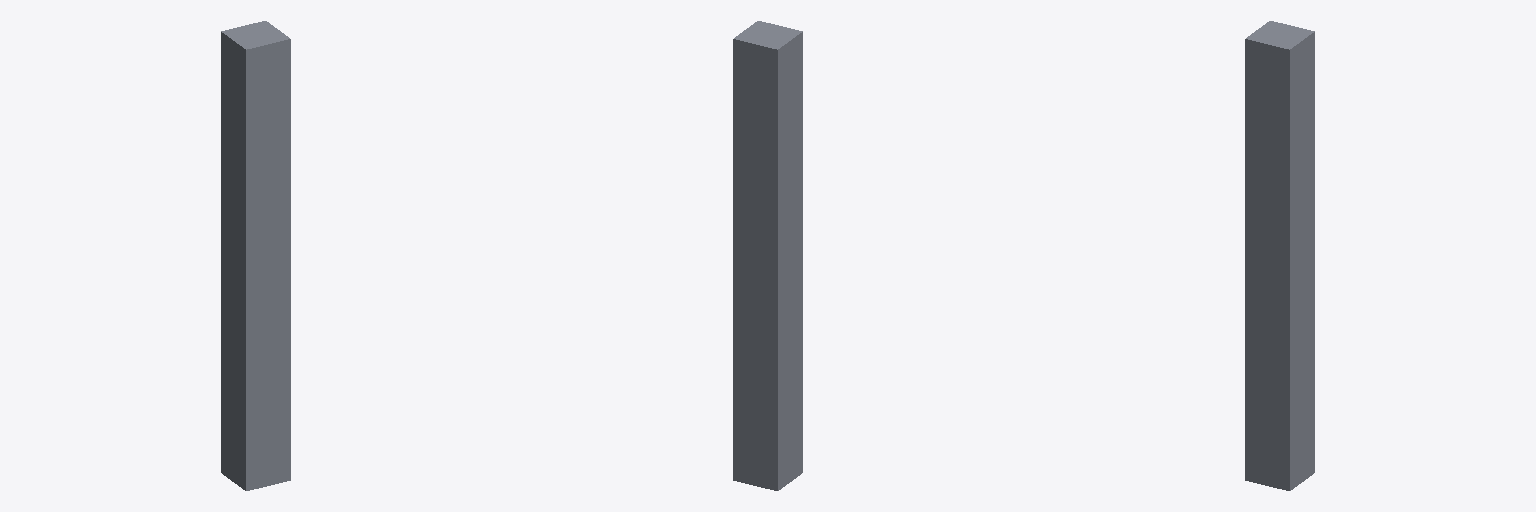
robot.urdf — artmanip_knife_000:
<?xml version='1.0' encoding='utf-8'?>
<robot name="artmanip_knife_000"><link name="link_0"><inertial><mass value="0.028772349425320025" /><inertia ixx="4.278296230280567e-05" iyy="4.281098432039362e-05" izz="9.285242742889508e-07" ixy="0" ixz="0" iyz="0" /></inertial><visual><geometry><box size="0.014123455257682214 0.013703464055867986 0.13287430373016243" /></geometry><material name="link_0_color"><color rgba=".58 .60 .64 1" /></material></visual><collision><geometry><box size="0.014123455257682214 0.013703464055867986 0.13287430373016243" /></geometry></collision></link><link name="link_1"><inertial><mass value="0.006" /><inertia ixx="4.545e-07" iyy="5e-07" izz="5.45e-08" ixy="0" ixz="0" iyz="0" /></inertial><visual><geometry><mesh filename="slider-shoulder.obj" /></geometry><material name="link_1_color"><color rgba=".12 .13 .15 1" /></material></visual><collision><geometry><mesh filename="slider-shoulder.obj" /></geometry></collision></link><joint name="slider" type="prismatic"><parent link="link_0" /><child link="link_1" /><origin xyz="0.00037741776118642347 0.008120469143009377 0.014001819786066433" /><axis xyz="0 0 1" /><limit lower="-0.03267458688196273" upper="0.017325413118037272" effort="100" velocity="1" /><dynamics damping="1000" friction="0.001" /></joint></robot>

--- Render facts (derived) ---
Views: 3 orthographic renders of the robot side by side, from view 1: azimuth 30°, elevation 25°; view 2: azimuth 150°, elevation 25°; view 3: azimuth 330°, elevation 25°.
Robot: artmanip_knife_000 — 2 links, 1 joints (1 prismatic); root link link_0; default pose: all joints at 0.
Visible links, largest first — view 1: link_0; view 2: link_0; view 3: link_0.
Link boxes in pixels (box(x1,y1,x2,y2)): link_0: box(221, 21, 290, 490); link_0: box(733, 21, 802, 490); link_0: box(1245, 21, 1314, 490).
Bounding box of the posed robot: 0.0141 × 0.0137 × 0.1329 m (x, y, z).
0 mesh visuals loaded from 1 distinct referenced files (none loaded); not drawn: 1 (reference not matched to a file when rendering).
